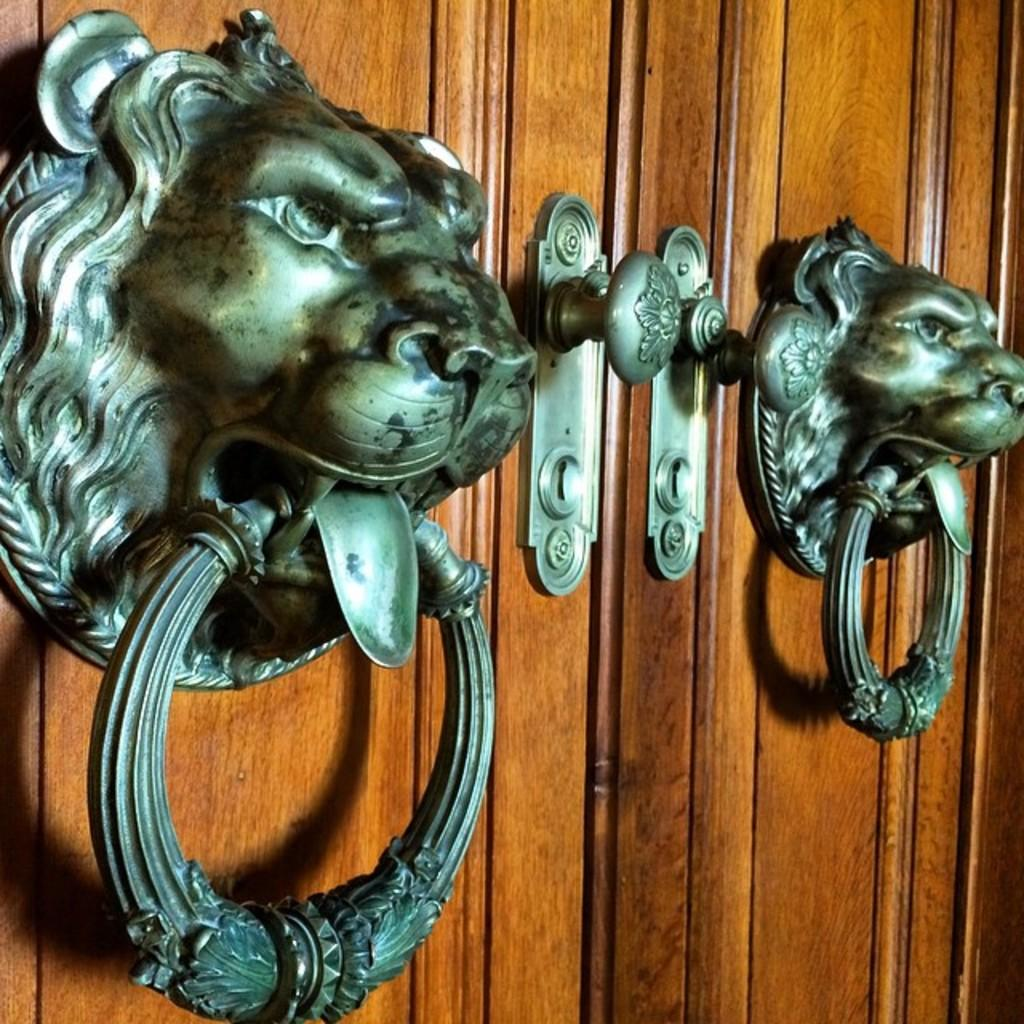handle: (110, 526, 498, 1024), (834, 448, 964, 761), (571, 234, 676, 400), (683, 296, 745, 391)
